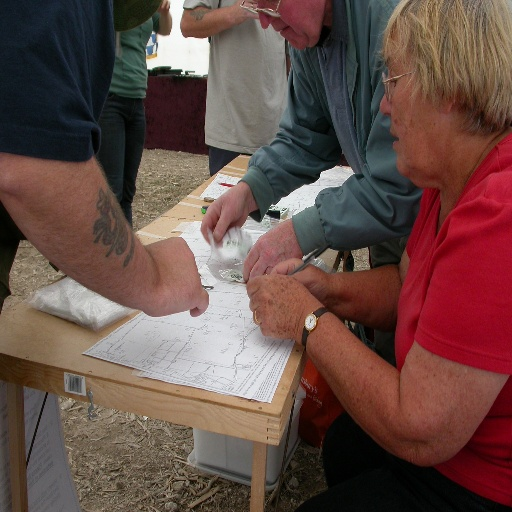hand: (146, 235, 209, 319), (245, 269, 317, 339), (240, 218, 304, 284), (269, 256, 331, 310), (209, 186, 254, 244), (236, 0, 260, 20), (157, 0, 171, 12)
